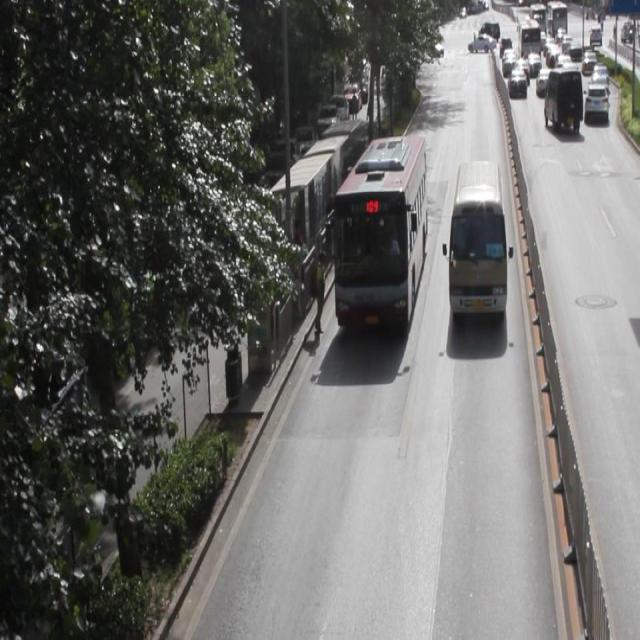truck: (446, 160, 507, 315)
van: (332, 134, 424, 326)
